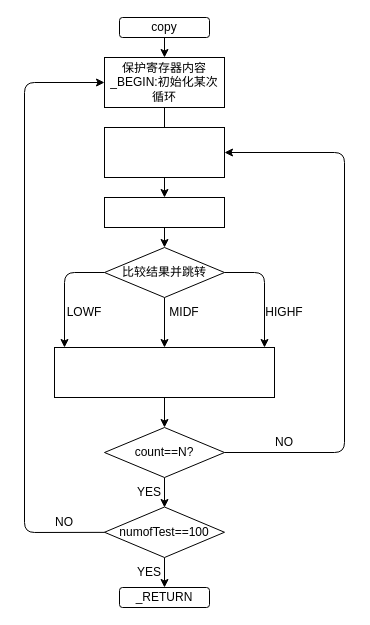
Image size: 370x625. Some labels were removed from this diagram. Each missing label, with the centre of its shape:
"_READ:在某次循环中读取下一组数据" belongs at point (164, 152).
"复制到对应区域 需要用到对应的index变量控制复制位置" belongs at point (164, 372).
"调用calculate子程序" belongs at point (164, 212).
